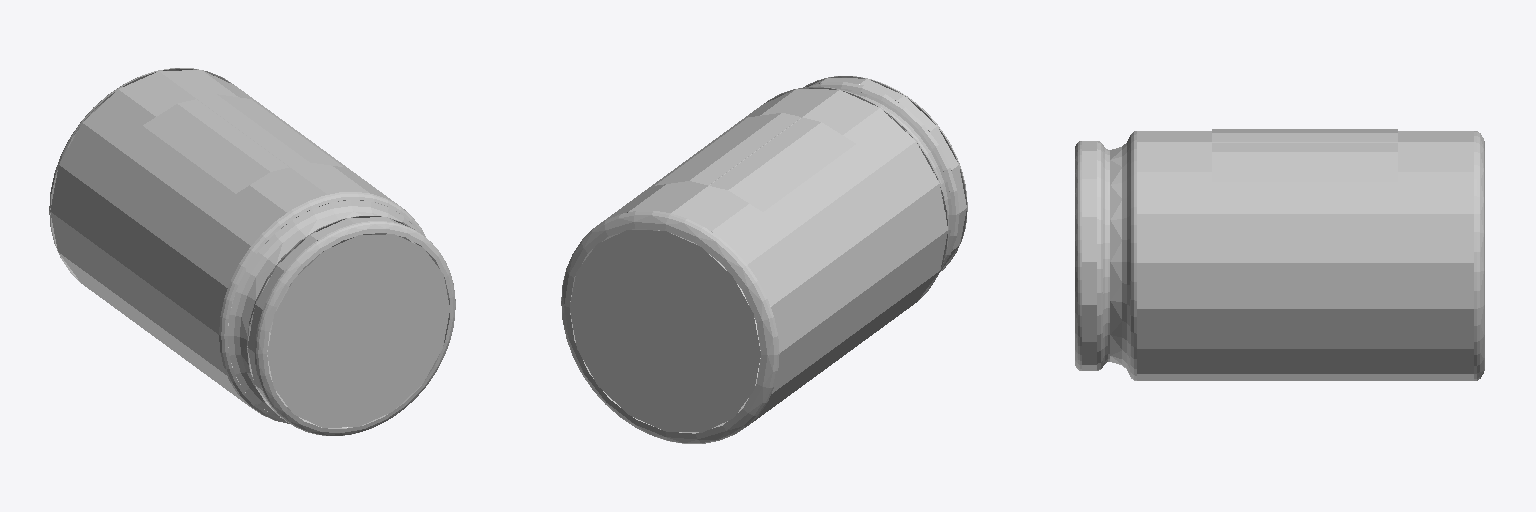
3 views of the same model, side by side, from view 1: azimuth 30°, elevation 25°; view 2: azimuth 150°, elevation 25°; view 3: azimuth 270°, elevation 25° (orthographic).
Parts seen in each view (by area): view 1: ShapeIndexedFaceSet.005_ShapeIndexedFaceSet, ShapeIndexedFaceSet.001_ShapeIndexedFaceSet.002, ShapeIndexedFaceSet.002_ShapeIndexedFaceSet.003, ShapeIndexedFaceSet_ShapeIndexedFaceSet.001, ShapeIndexedFaceSet.004_ShapeIndexedFaceSet.005; view 2: ShapeIndexedFaceSet.005_ShapeIndexedFaceSet, ShapeIndexedFaceSet.003_ShapeIndexedFaceSet.004, ShapeIndexedFaceSet_ShapeIndexedFaceSet.001, ShapeIndexedFaceSet.004_ShapeIndexedFaceSet.005, ShapeIndexedFaceSet.002_ShapeIndexedFaceSet.003; view 3: ShapeIndexedFaceSet.005_ShapeIndexedFaceSet, ShapeIndexedFaceSet.002_ShapeIndexedFaceSet.003, ShapeIndexedFaceSet_ShapeIndexedFaceSet.001, ShapeIndexedFaceSet.004_ShapeIndexedFaceSet.005.
Part boxes in pixels (left/top/right/bottom): ShapeIndexedFaceSet.005_ShapeIndexedFaceSet: left=50, top=70, right=411, bottom=417; ShapeIndexedFaceSet.001_ShapeIndexedFaceSet.002: left=267, top=234, right=449, bottom=427; ShapeIndexedFaceSet.002_ShapeIndexedFaceSet.003: left=219, top=192, right=455, bottom=435; ShapeIndexedFaceSet_ShapeIndexedFaceSet.001: left=143, top=94, right=342, bottom=193; ShapeIndexedFaceSet.004_ShapeIndexedFaceSet.005: left=49, top=68, right=233, bottom=282; ShapeIndexedFaceSet.005_ShapeIndexedFaceSet: left=570, top=89, right=947, bottom=433; ShapeIndexedFaceSet.003_ShapeIndexedFaceSet.004: left=570, top=230, right=760, bottom=432; ShapeIndexedFaceSet_ShapeIndexedFaceSet.001: left=655, top=113, right=855, bottom=211; ShapeIndexedFaceSet.004_ShapeIndexedFaceSet.005: left=561, top=211, right=779, bottom=443; ShapeIndexedFaceSet.002_ShapeIndexedFaceSet.003: left=764, top=76, right=967, bottom=300; ShapeIndexedFaceSet.005_ShapeIndexedFaceSet: left=1137, top=131, right=1473, bottom=380; ShapeIndexedFaceSet.002_ShapeIndexedFaceSet.003: left=1075, top=131, right=1136, bottom=380; ShapeIndexedFaceSet_ShapeIndexedFaceSet.001: left=1212, top=129, right=1397, bottom=181; ShapeIndexedFaceSet.004_ShapeIndexedFaceSet.005: left=1474, top=131, right=1484, bottom=380.
Size of the model in its own units: 6.72 by 6.72 by 11.